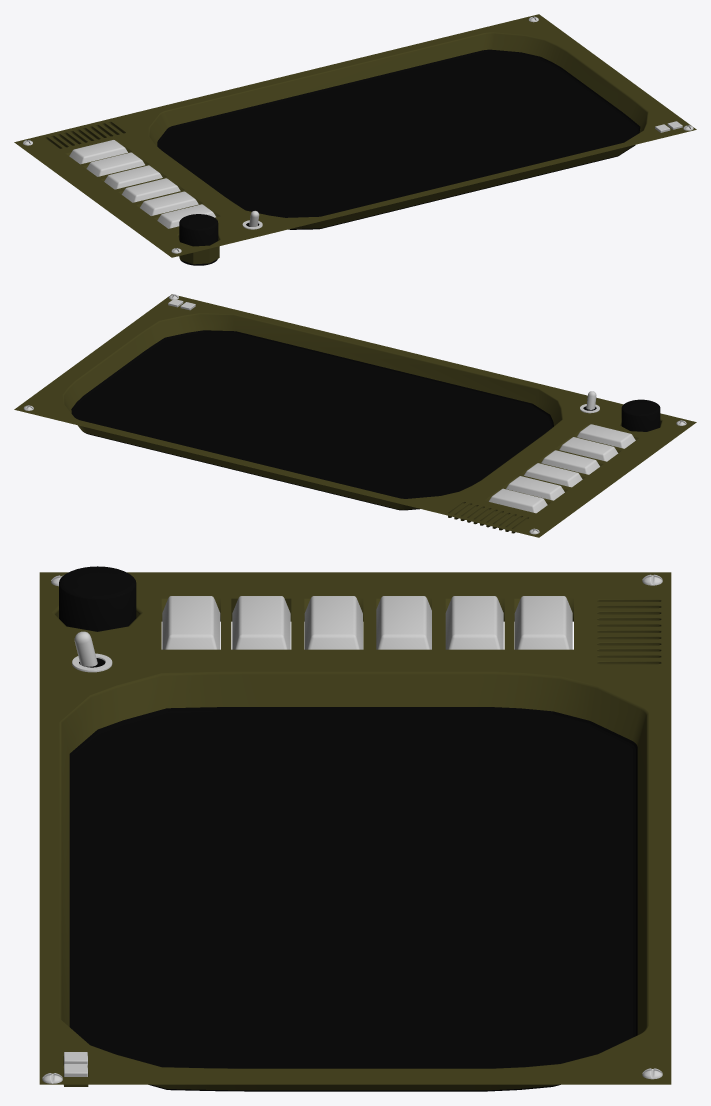
The model's file is Menu11.fbx.glb.
3 renders of one model, top to bottom at view 1: azimuth 30°, elevation 25°; view 2: azimuth 150°, elevation 25°; view 3: azimuth 270°, elevation 25°, orthographic. The views are drawn at different scales.
Visible parts, largest first — view 1: Base.1, Dial.7, RectangleButton5.12, RectangleButton4.13, RectangleButton1.16, RectangleButton2.15, RectangleButton3.14, RectangleButton6.2; view 2: Base.1, Dial.7, RectangleButton1.16, RectangleButton2.15, RectangleButton6.2, RectangleButton5.12, RectangleButton4.13, RectangleButton3.14; view 3: Base.1, Dial.7, RectangleButton6.2, RectangleButton1.16, RectangleButton5.12, RectangleButton4.13, RectangleButton2.15, RectangleButton3.14.
Boxes of the visible parts, <box> form: Base.1: <box>14,14,696,264</box>; Dial.7: <box>179,214,218,265</box>; RectangleButton5.12: <box>140,191,198,215</box>; RectangleButton4.13: <box>121,178,180,202</box>; RectangleButton1.16: <box>69,140,127,164</box>; RectangleButton2.15: <box>86,152,144,176</box>; RectangleButton3.14: <box>104,165,162,189</box>; RectangleButton6.2: <box>157,204,215,228</box>; Base.1: <box>14,294,696,537</box>; Dial.7: <box>621,399,660,431</box>; RectangleButton1.16: <box>488,488,547,513</box>; RectangleButton2.15: <box>506,476,564,500</box>; RectangleButton6.2: <box>577,424,635,448</box>; RectangleButton5.12: <box>559,437,618,461</box>; RectangleButton4.13: <box>541,450,599,474</box>; RectangleButton3.14: <box>524,463,582,487</box>; Base.1: <box>39,572,671,1091</box>; Dial.7: <box>59,566,136,631</box>; RectangleButton6.2: <box>162,596,220,649</box>; RectangleButton1.16: <box>514,596,572,649</box>; RectangleButton5.12: <box>232,596,290,649</box>; RectangleButton4.13: <box>304,596,362,649</box>; RectangleButton2.15: <box>445,596,503,649</box>; RectangleButton3.14: <box>376,596,431,649</box>.
Bounding box in the file's own units: 5.01 × 0.3309 × 2.61.
